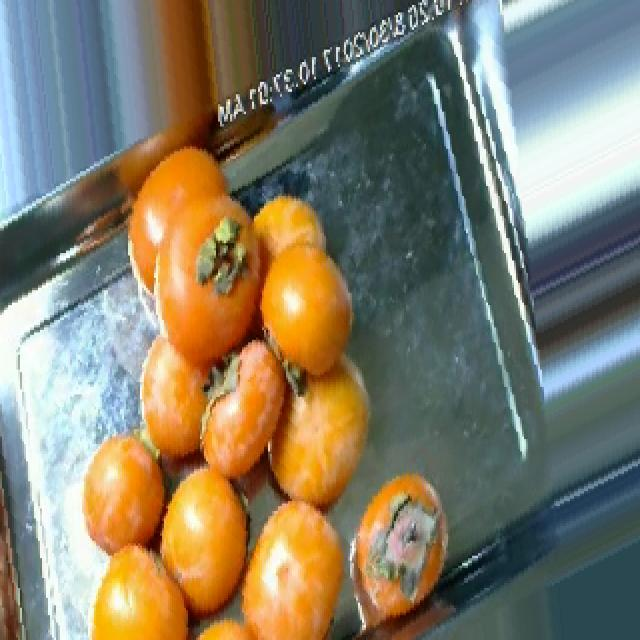Fruit: (206, 169, 386, 402), (356, 457, 468, 622), (68, 417, 176, 583)
